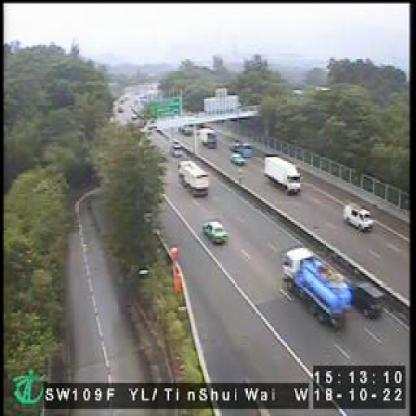Car: (348, 278, 385, 321), (343, 202, 376, 232), (201, 219, 230, 246), (230, 152, 246, 167), (172, 141, 185, 158)
Truck: (280, 245, 352, 330), (263, 153, 301, 196), (178, 159, 210, 197), (200, 126, 218, 149)
